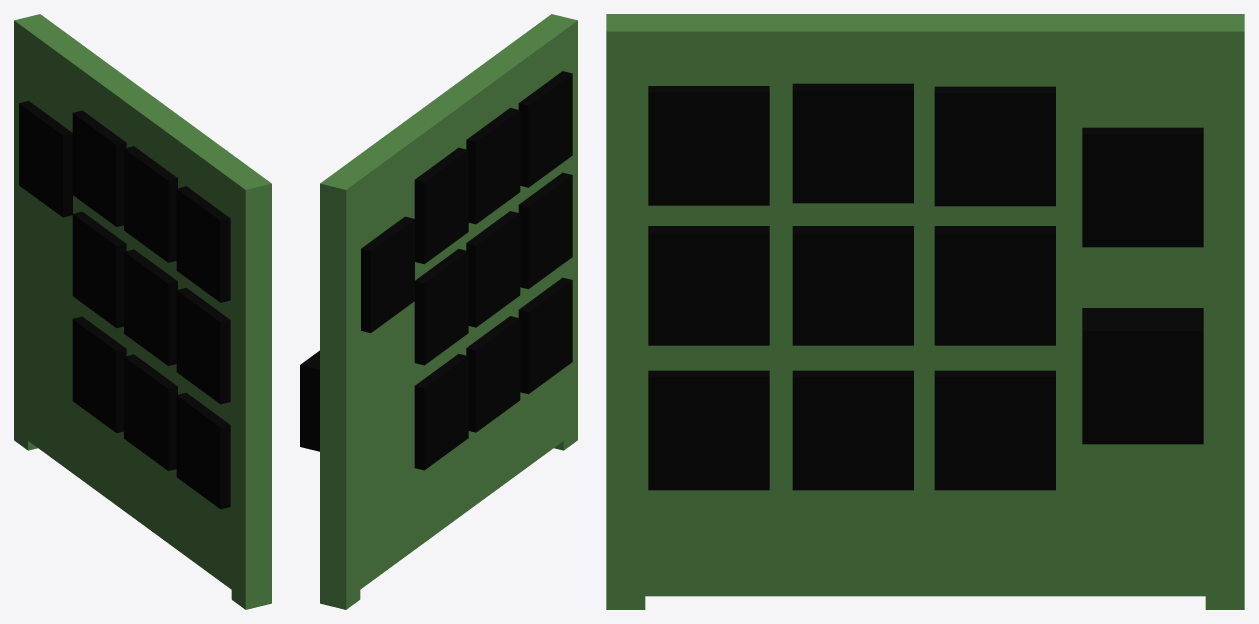
Rendered from puzzlepieces_mdl.fbx.
3 views of the same model, side by side, from view 1: azimuth 30°, elevation 25°; view 2: azimuth 150°, elevation 25°; view 3: azimuth 270°, elevation 25° (orthographic). The views are drawn at different scales.
Parts seen in each view (by area): view 1: puzzlepiecesbase, puzzlepiecespiece4, puzzlepiecespiece7, puzzlepiecespiece1, puzzlepiecespicture, puzzlepiecespiece2, puzzlepiecespiece5, puzzlepiecespiece8, puzzlepiecespiece6, puzzlepiecespiece9, puzzlepiecespiece3; view 2: puzzlepiecesbase, puzzlepiecespiece9, puzzlepiecespiece6, puzzlepiecespiece3, puzzlepiecespicture, puzzlepiecespiece2, puzzlepiecespiece4, puzzlepiecespiece7, puzzlepiecespiece5, puzzlepiecespiece8, puzzlepiecespiece1, puzzlepiecesdeck; view 3: puzzlepiecesbase, puzzlepiecesdeck, puzzlepiecespicture, puzzlepiecespiece7, puzzlepiecespiece2, puzzlepiecespiece3, puzzlepiecespiece8, puzzlepiecespiece9, puzzlepiecespiece1, puzzlepiecespiece4, puzzlepiecespiece5, puzzlepiecespiece6.
Part boxes in pixels (<box>): puzzlepiecesbase: <box>14,14,271,609</box>; puzzlepiecespiece4: <box>176,287,230,404</box>; puzzlepiecespiece7: <box>176,392,230,509</box>; puzzlepiecespiece1: <box>176,186,230,302</box>; puzzlepiecespicture: <box>19,101,72,217</box>; puzzlepiecespiece2: <box>124,146,177,262</box>; puzzlepiecespiece5: <box>124,249,177,365</box>; puzzlepiecespiece8: <box>124,354,177,470</box>; puzzlepiecespiece6: <box>72,211,126,328</box>; puzzlepiecespiece9: <box>72,316,126,433</box>; puzzlepiecespiece3: <box>72,110,126,226</box>; puzzlepiecesbase: <box>320,14,577,609</box>; puzzlepiecespiece9: <box>414,354,468,470</box>; puzzlepiecespiece6: <box>414,249,468,365</box>; puzzlepiecespiece3: <box>414,147,468,264</box>; puzzlepiecespicture: <box>361,216,414,333</box>; puzzlepiecespiece2: <box>466,108,520,224</box>; puzzlepiecespiece4: <box>518,172,572,289</box>; puzzlepiecespiece7: <box>518,277,572,394</box>; puzzlepiecespiece5: <box>466,211,520,327</box>; puzzlepiecespiece8: <box>466,316,520,432</box>; puzzlepiecespiece1: <box>518,71,572,187</box>; puzzlepiecesdeck: <box>300,350,319,451</box>; puzzlepiecesbase: <box>606,14,1244,609</box>; puzzlepiecesdeck: <box>1082,308,1203,444</box>; puzzlepiecespicture: <box>1082,127,1203,247</box>; puzzlepiecespiece7: <box>648,370,769,490</box>; puzzlepiecespiece2: <box>792,83,913,203</box>; puzzlepiecespiece3: <box>934,86,1055,206</box>; puzzlepiecespiece8: <box>792,370,913,490</box>; puzzlepiecespiece9: <box>934,370,1055,490</box>; puzzlepiecespiece1: <box>648,86,769,205</box>; puzzlepiecespiece4: <box>648,226,769,345</box>; puzzlepiecespiece5: <box>792,226,913,345</box>; puzzlepiecespiece6: <box>934,226,1055,345</box>.
Bounding box in the file's own units: 0.5293 × 3 × 3.
